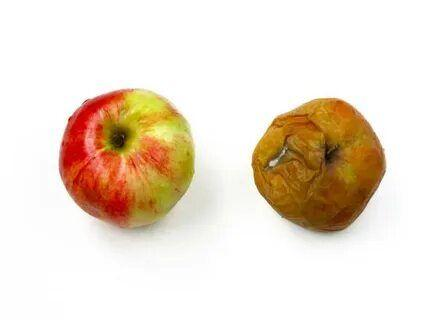Apple: (59, 89, 194, 232), (255, 99, 384, 233)
